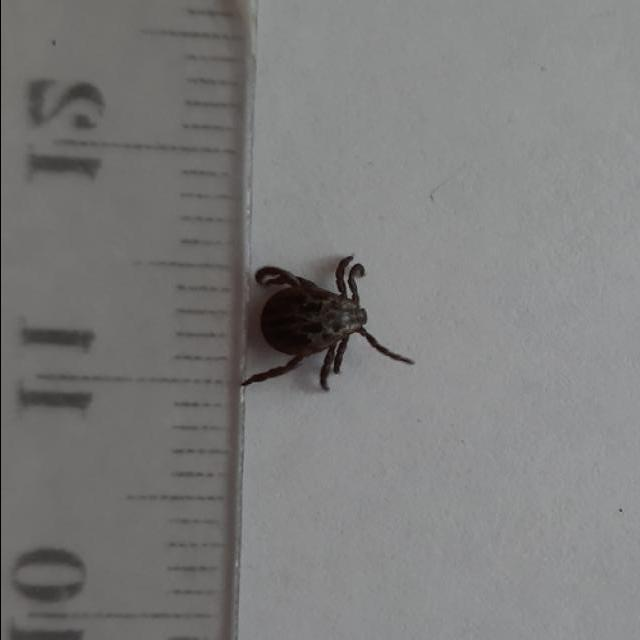Dermacentor Reticulatus-M: (239, 253, 415, 392)
